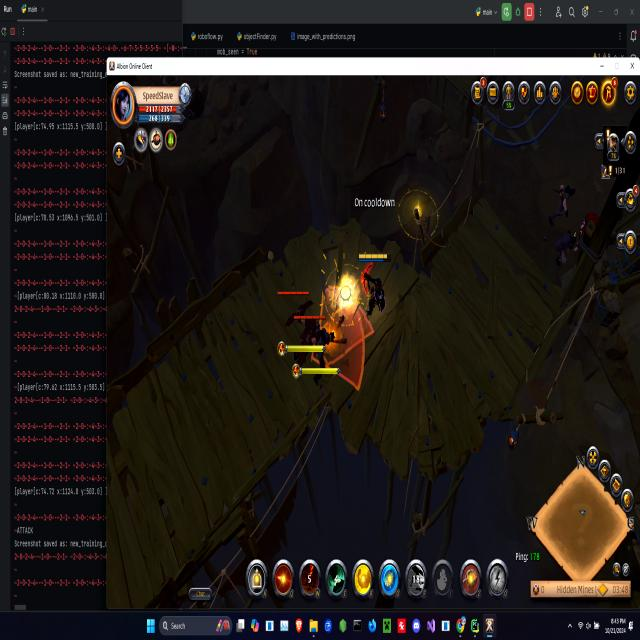ore: (276, 285, 330, 389), (546, 178, 577, 230), (553, 224, 581, 274)
red: (356, 248, 393, 321)
silver: (310, 284, 374, 392)
